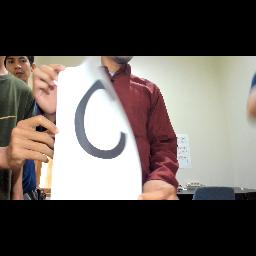c: (69, 76, 137, 164)
